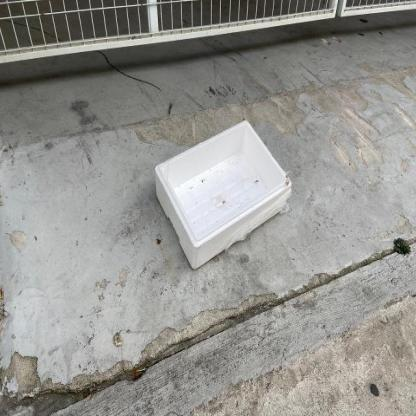Glass Cup: (156, 121, 292, 270), (156, 121, 292, 269)
